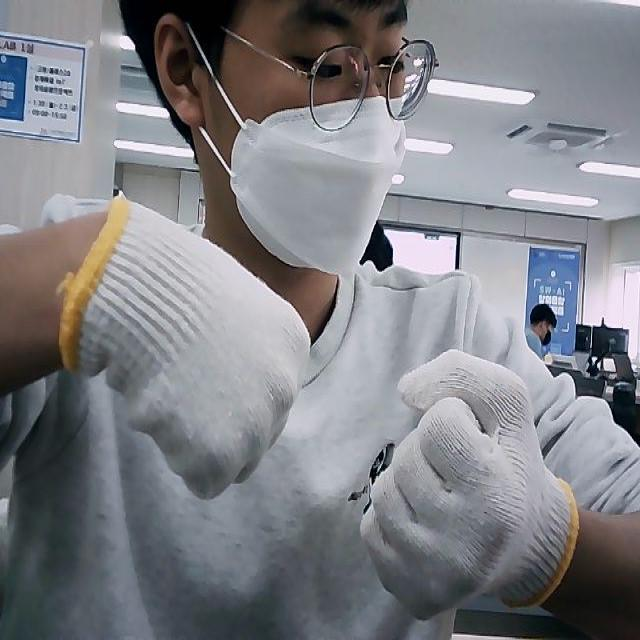gloves: (58, 192, 312, 498), (358, 352, 582, 620)
